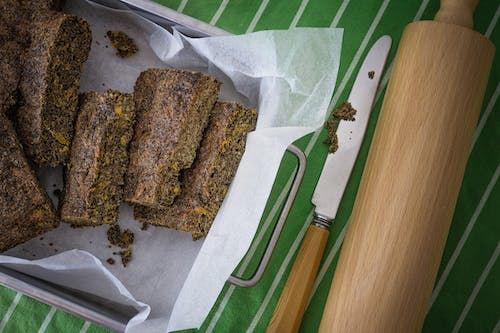knife: (262, 33, 394, 333)
